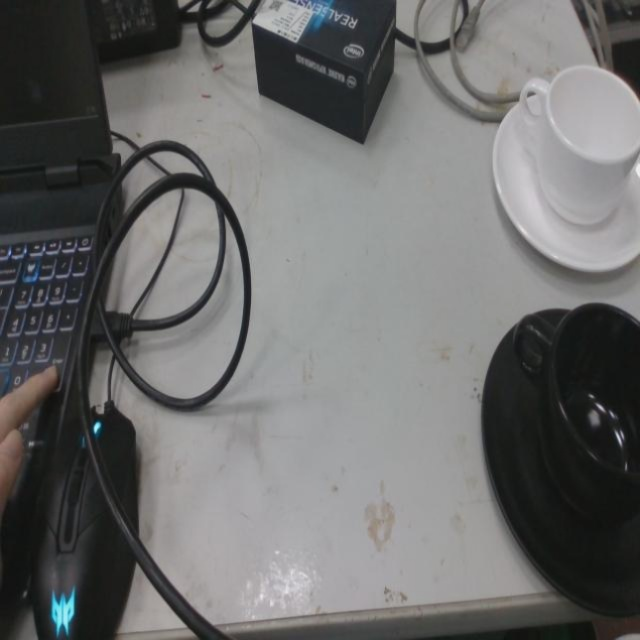black: (477, 297, 640, 624)
white: (490, 60, 640, 278)
